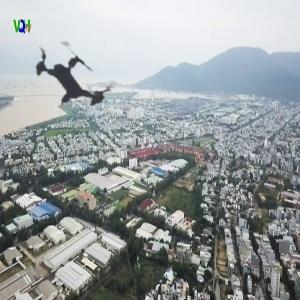drone: (3, 13, 136, 146)
